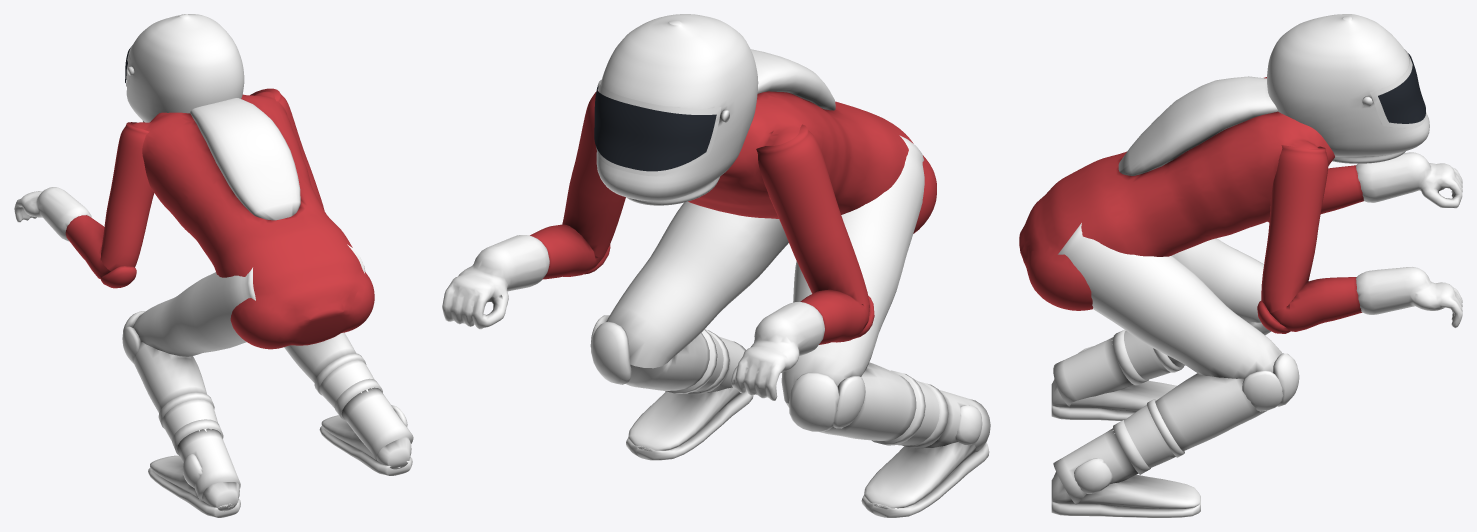
The model's file is pilota.fbx.
The picture shows the model from 3 angles, left to right: view 1: azimuth 30°, elevation 25°; view 2: azimuth 150°, elevation 25°; view 3: azimuth 270°, elevation 25°; orthographic projection. The views are drawn at different scales.
Visible parts, largest first — view 1: torso, leg_L, helmet_shell, hump, boot_R, boot_L, arm_L, glove_L, leg_R, arm_R; view 2: leg_R, leg_L, helmet_shell, torso, arm_L, boot_L, boot_R, arm_R, helmet_visor, glove_R, glove_L, hump (+2 smaller); view 3: torso, leg_R, helmet_shell, arm_R, boot_R, boot_L, hump, leg_L, glove_L, glove_R, helmet_visor, arm_L (+2 smaller).
Part boxes in pixels (x1,y1,x2,y2): torso: (133, 91, 374, 349); leg_L: (122, 267, 255, 431); helmet_shell: (126, 14, 244, 122); hump: (190, 98, 300, 220); boot_R: (314, 353, 413, 475); boot_L: (148, 392, 240, 517); arm_L: (65, 122, 154, 288); glove_L: (14, 187, 91, 241); leg_R: (284, 244, 371, 392); arm_R: (250, 88, 324, 210); leg_R: (590, 201, 788, 390); leg_L: (781, 135, 924, 441); helmet_shell: (596, 14, 758, 201); torso: (688, 91, 936, 233); arm_L: (756, 124, 874, 344); boot_L: (861, 370, 990, 517); boot_R: (626, 329, 753, 460); arm_R: (530, 90, 625, 279); helmet_visor: (594, 86, 716, 171); glove_R: (442, 235, 549, 329); glove_L: (731, 302, 824, 400); hump: (751, 49, 835, 110); torso: (1019, 77, 1334, 310); leg_R: (1058, 223, 1299, 451); helmet_shell: (1267, 14, 1429, 157); arm_R: (1257, 145, 1362, 333); boot_R: (1051, 399, 1200, 517); boot_L: (1051, 329, 1183, 420); hump: (1118, 76, 1277, 175); leg_L: (1111, 238, 1270, 367); glove_L: (1356, 152, 1462, 208); glove_R: (1356, 267, 1462, 327); helmet_visor: (1378, 53, 1425, 123); arm_L: (1267, 165, 1363, 222).
Size of the model in its own units: 0.6937 by 1.04 by 0.9438.
